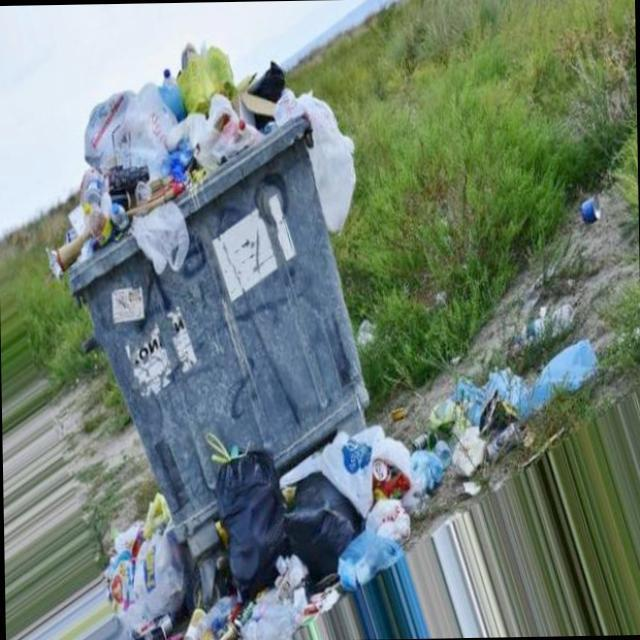garbage: (34, 28, 354, 284), (88, 414, 416, 640), (405, 334, 622, 502), (568, 192, 606, 225), (354, 314, 378, 344)
